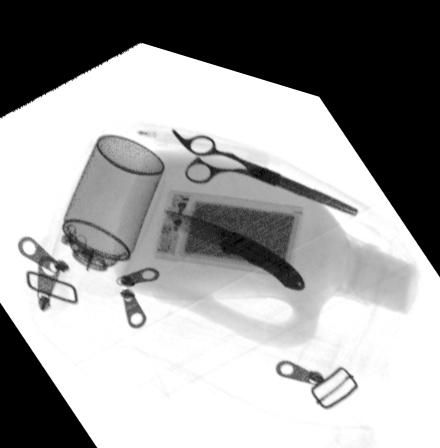Knife: (161, 199, 305, 275)
Powerbank: (152, 179, 301, 262)
Scissors: (167, 115, 355, 193)
Sprayer: (47, 127, 163, 291)
